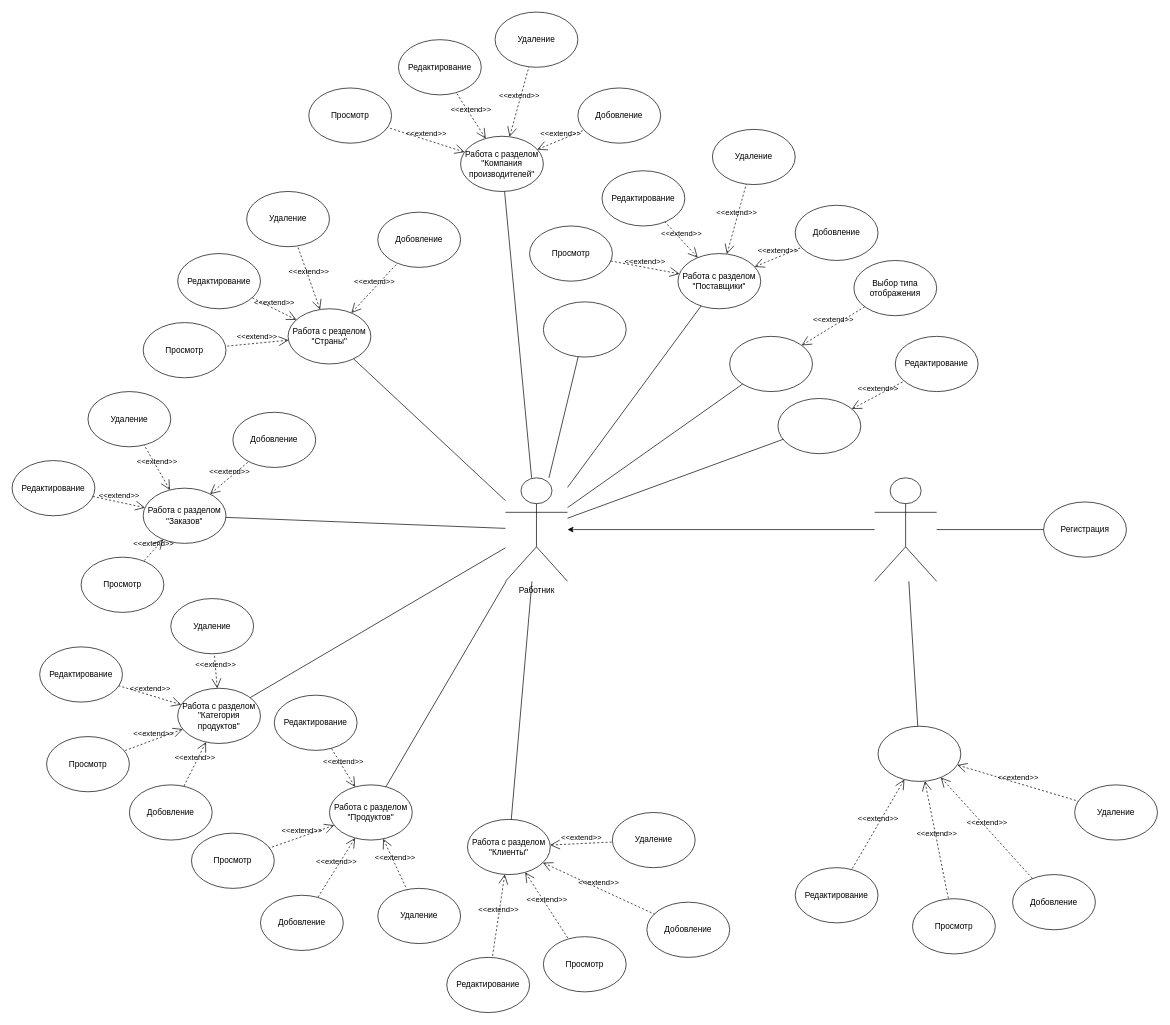
The diagram is 1170 pixels wide and 1025 high, and some of its shapes have lost their labels. The centre of each missing label's shape, as x and y in pixels:
Вход: (x=584, y=329)
Настройки приложения: (x=770, y=364)
Начальник: (x=905, y=529)
Работа с личным аккаунтом: (x=819, y=426)
Работа с разделом "Пользователи": (x=919, y=753)
